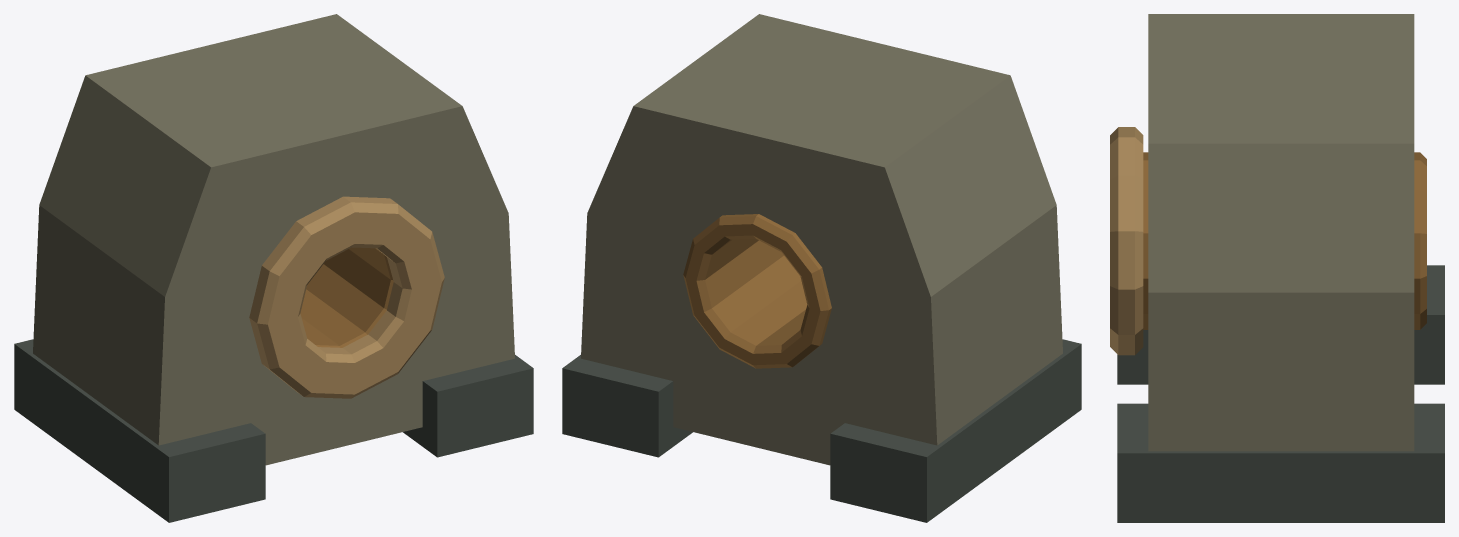
File: PIN_SOCKET.shadow.glb
The picture shows the model from 3 angles, left to right: view 1: azimuth 30°, elevation 25°; view 2: azimuth 150°, elevation 25°; view 3: azimuth 270°, elevation 25°; orthographic projection. The views are drawn at different scales.
Parts seen in each view (by area): view 1: Body_Mesh; view 2: Body_Mesh; view 3: Body_Mesh.
Boxes of the visible parts, box(x1,y1,x2,y2) form: Body_Mesh: box(14, 14, 533, 522); Body_Mesh: box(562, 14, 1081, 522); Body_Mesh: box(1110, 14, 1444, 522).
Bounding box in the file's own units: 0.87 × 0.755 × 0.6545.
